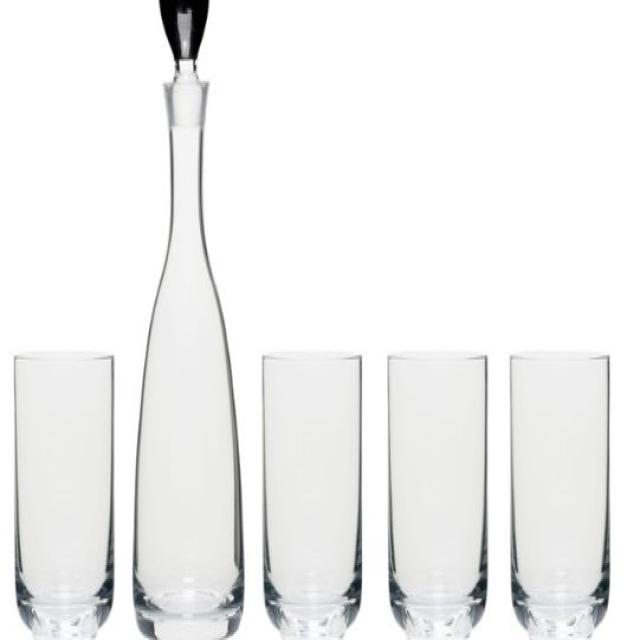electronic: (9, 349, 612, 640), (131, 0, 246, 638)
